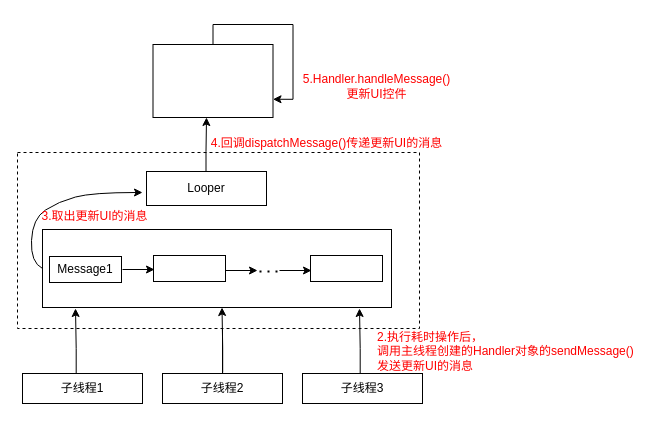
Image size: 660x421. Some labels were removed from this diagram. The box of each missing label's shape, as (x1, y1, x2, y2) in pixels:
Message1=n: (310, 254, 382, 282)
Message2: (152, 254, 226, 282)
主线程 1.创建Handler对象: (152, 44, 273, 118)
